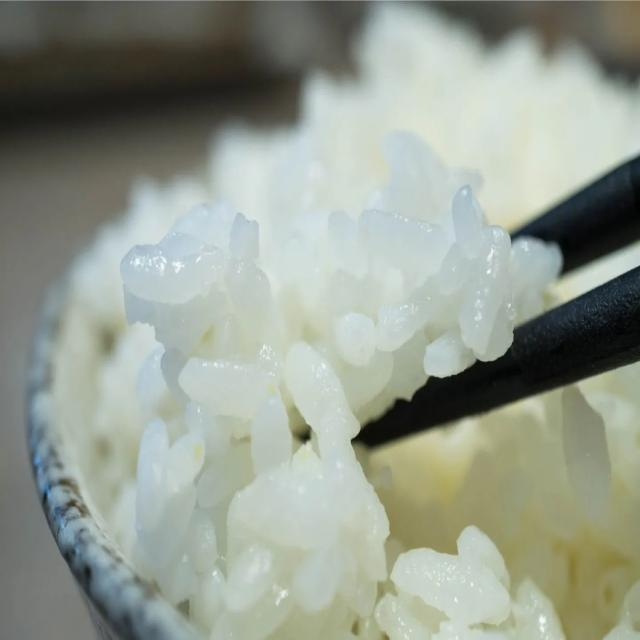arroz: (42, 150, 534, 624)
